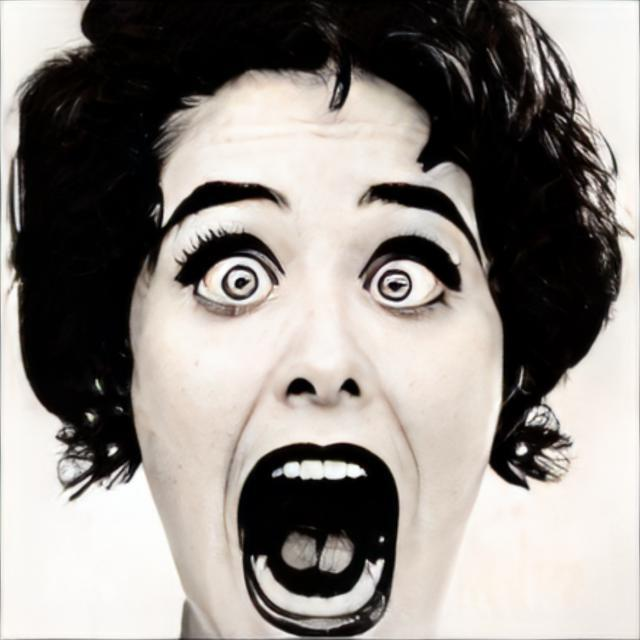Fear: (127, 70, 507, 640)
